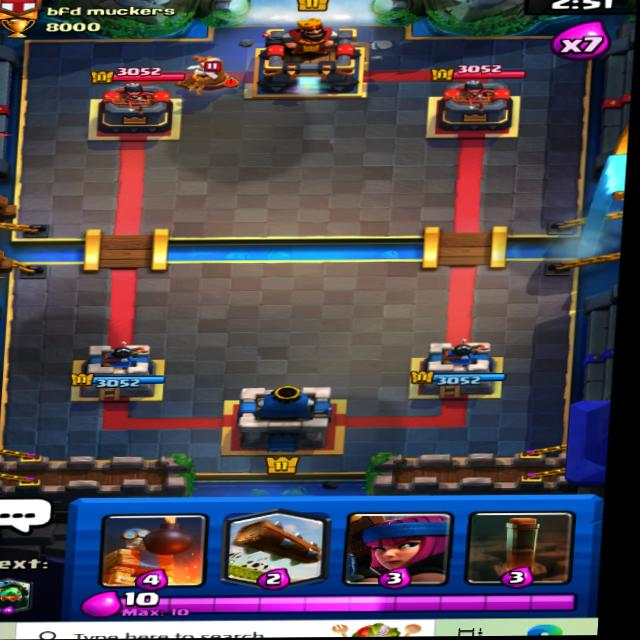monk: (165, 52, 248, 100)
